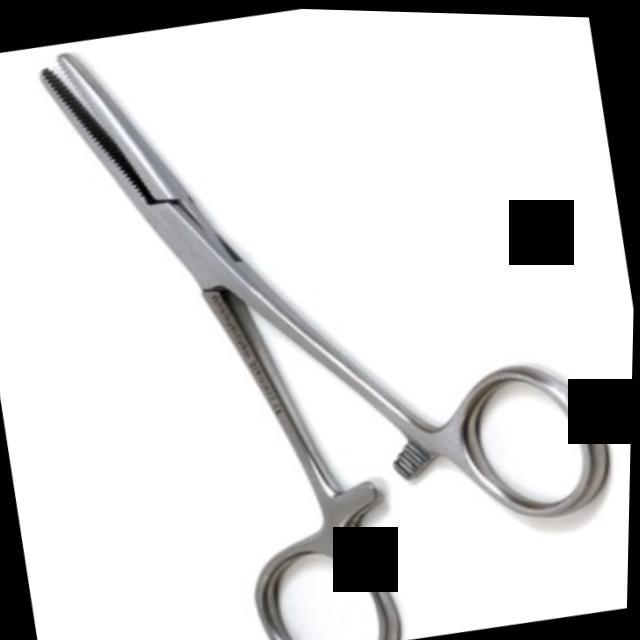Kocher Forceps: (2, 0, 640, 640)
